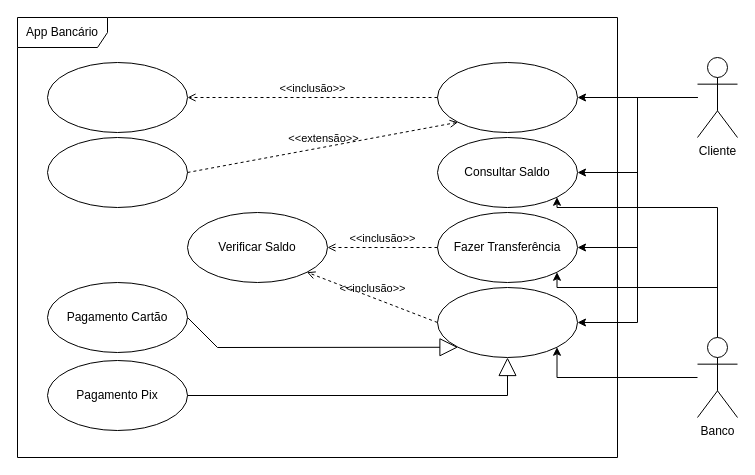
Image size: 755x475. Some labels were removed from this diagram. Each missing label, with the box of its shape:
Erro no Login: (46, 136, 188, 208)
Fazer Login: (436, 62, 578, 132)
Realizar Pagamentos: (436, 286, 578, 358)
Verificar Login: (46, 62, 188, 132)
